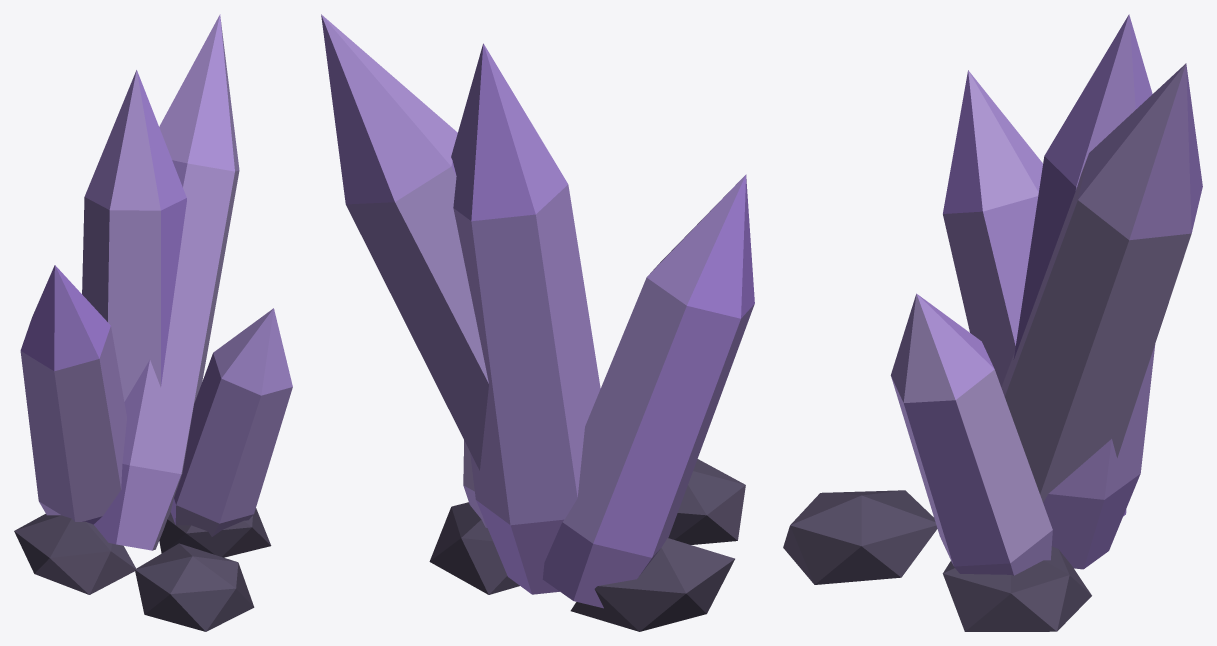
Rendered from Crystal_Violet_A.fbx.
The picture shows the model from 3 angles, left to right: view 1: azimuth 30°, elevation 25°; view 2: azimuth 150°, elevation 25°; view 3: azimuth 270°, elevation 25°; orthographic projection. The views are drawn at different scales.
Parts seen in each view (by area): view 1: Crystal_Violet_A; view 2: Crystal_Violet_A; view 3: Crystal_Violet_A.
Boxes of the visible parts, x1,y1,x2,y2 form: Crystal_Violet_A: (14, 14, 292, 631); Crystal_Violet_A: (321, 14, 754, 631); Crystal_Violet_A: (783, 14, 1202, 631).
Bounding box in the file's own units: 1.09 × 1.82 × 1.16.
